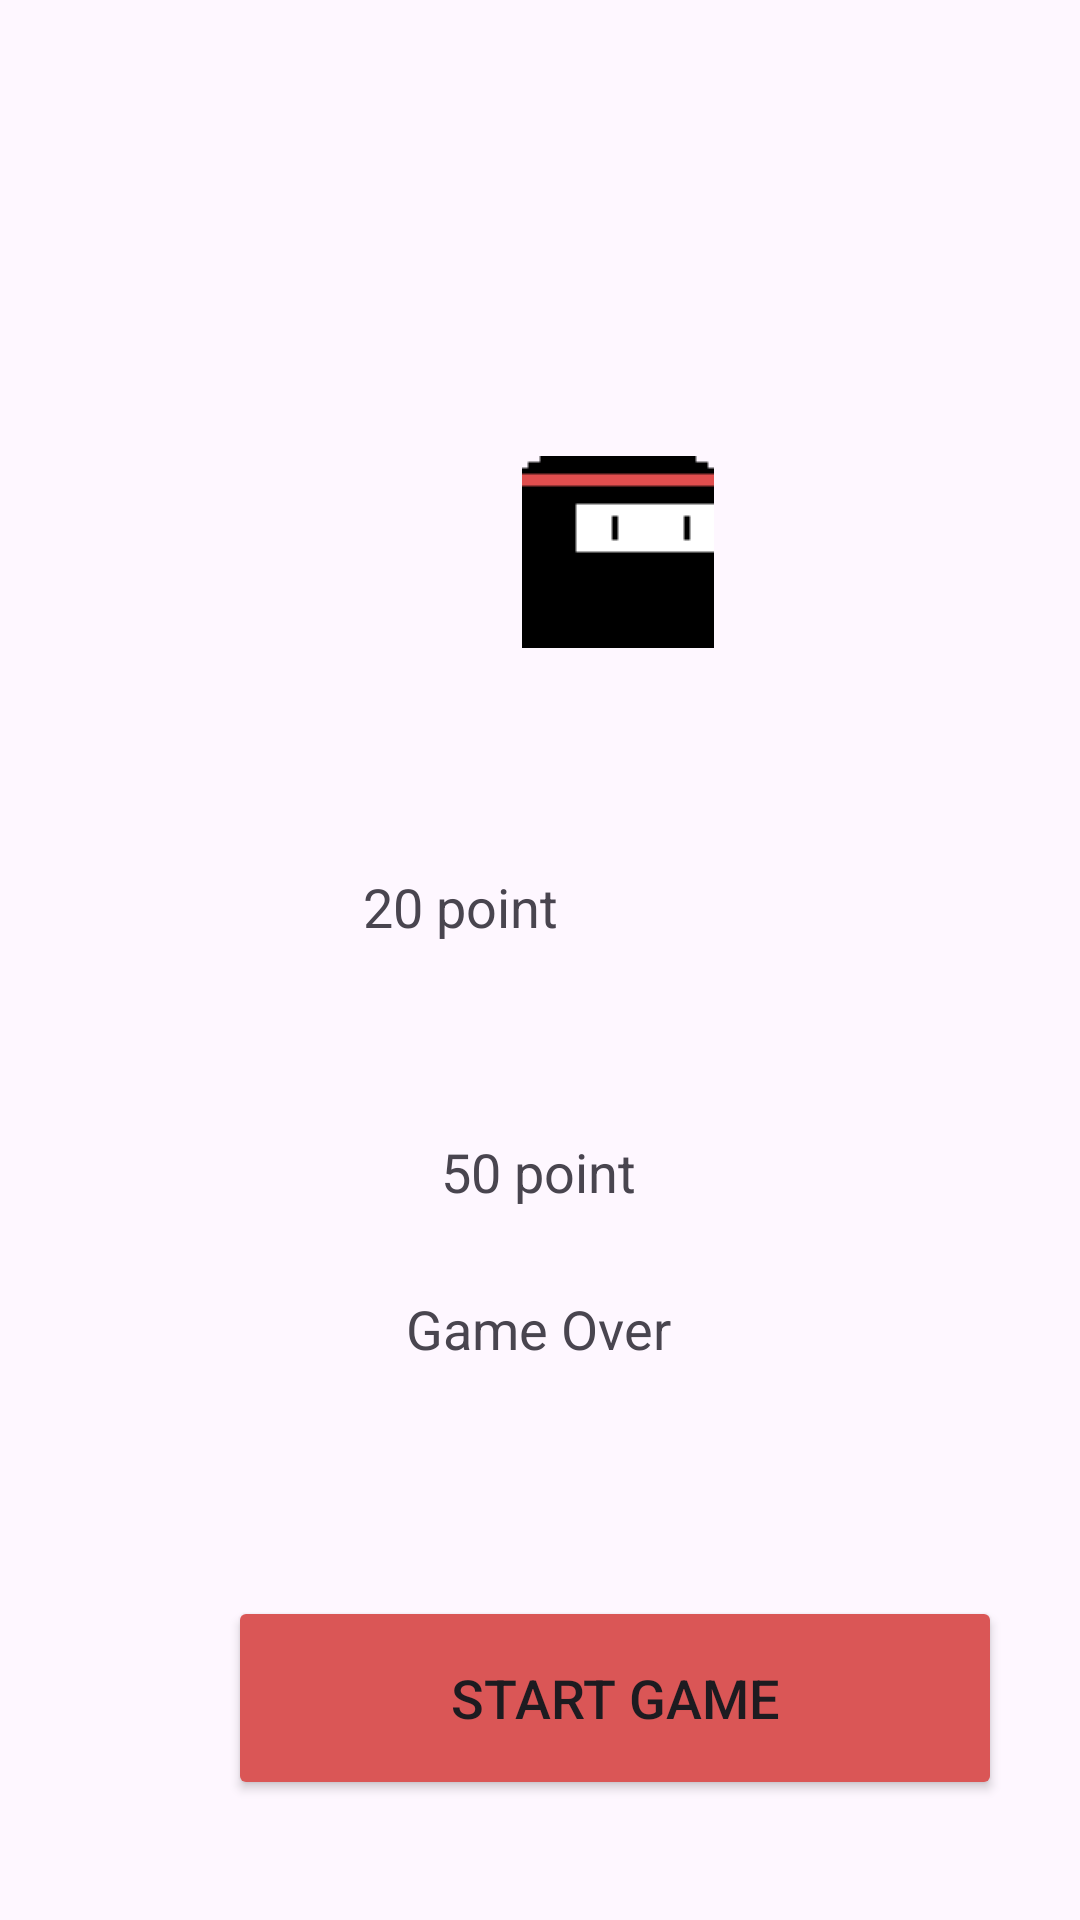

Named icons in this screenshot (1080w x 1920h) and their centers, (x=x, y=y):
chracter: (x=618, y=552)
